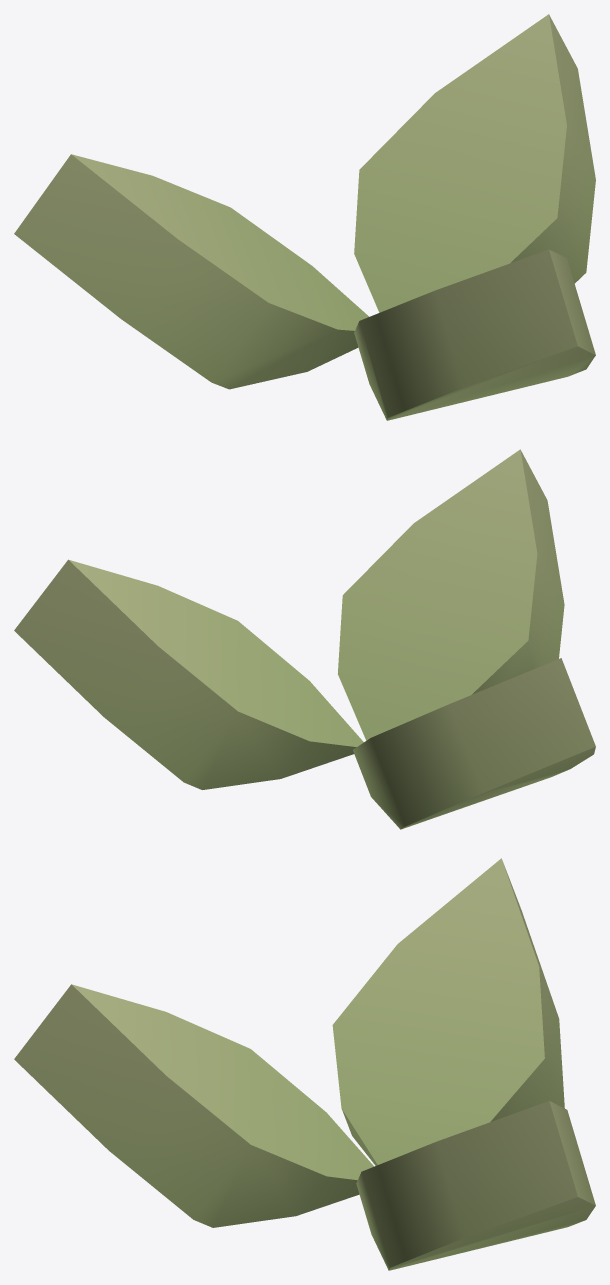
The model's file is garden-plant-small.glb.
The picture shows the model from 3 angles, top to bottom: view 1: azimuth 30°, elevation 25°; view 2: azimuth 150°, elevation 25°; view 3: azimuth 270°, elevation 25°; orthographic projection. The views are drawn at different scales.
Visible parts, largest first — view 1: garden-plant-small; view 2: garden-plant-small; view 3: garden-plant-small.
Part boxes in pixels (bbox=[...]): garden-plant-small: bbox=[14, 14, 595, 420]; garden-plant-small: bbox=[14, 449, 595, 829]; garden-plant-small: bbox=[14, 858, 595, 1270].
Size of the model in its own units: 0.3002 by 0.0977 by 0.2578.
